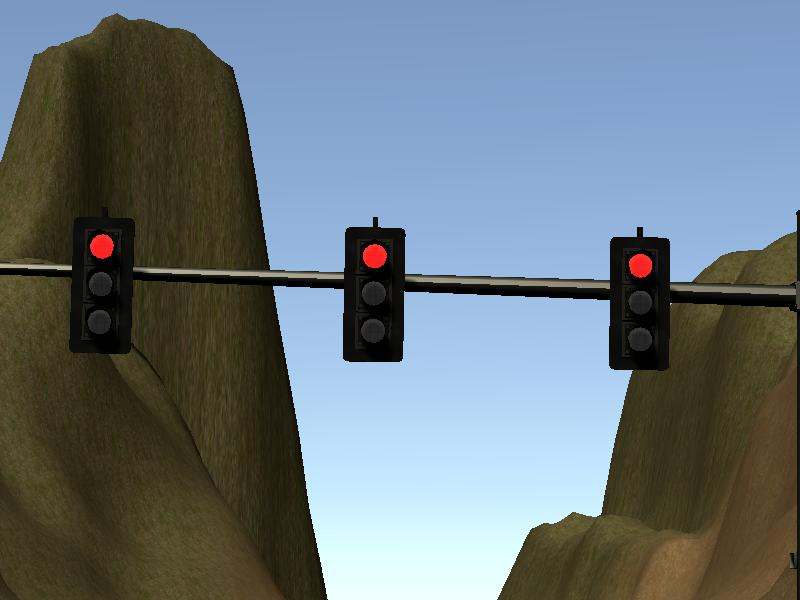Red: (609, 237, 669, 371), (345, 226, 403, 362), (73, 218, 131, 353)
